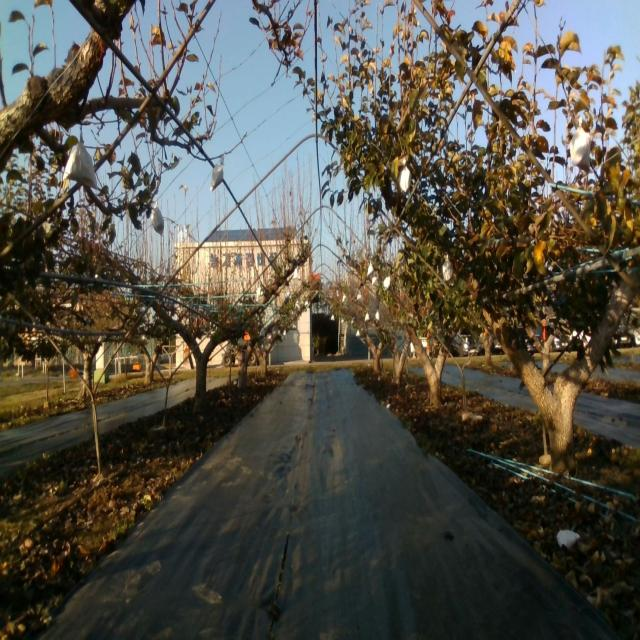pearbags: (62, 140, 98, 190), (568, 124, 592, 170), (211, 157, 226, 190), (151, 201, 164, 238), (398, 164, 413, 196), (442, 258, 454, 284)
